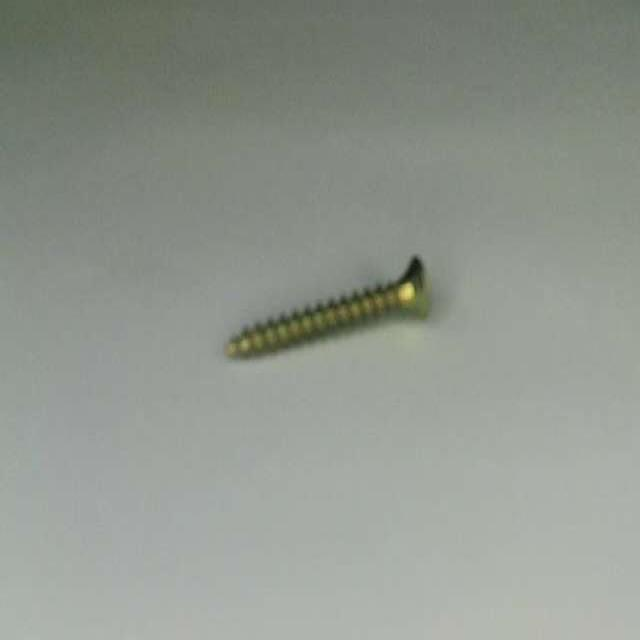Parafuso: (227, 257, 429, 356)
